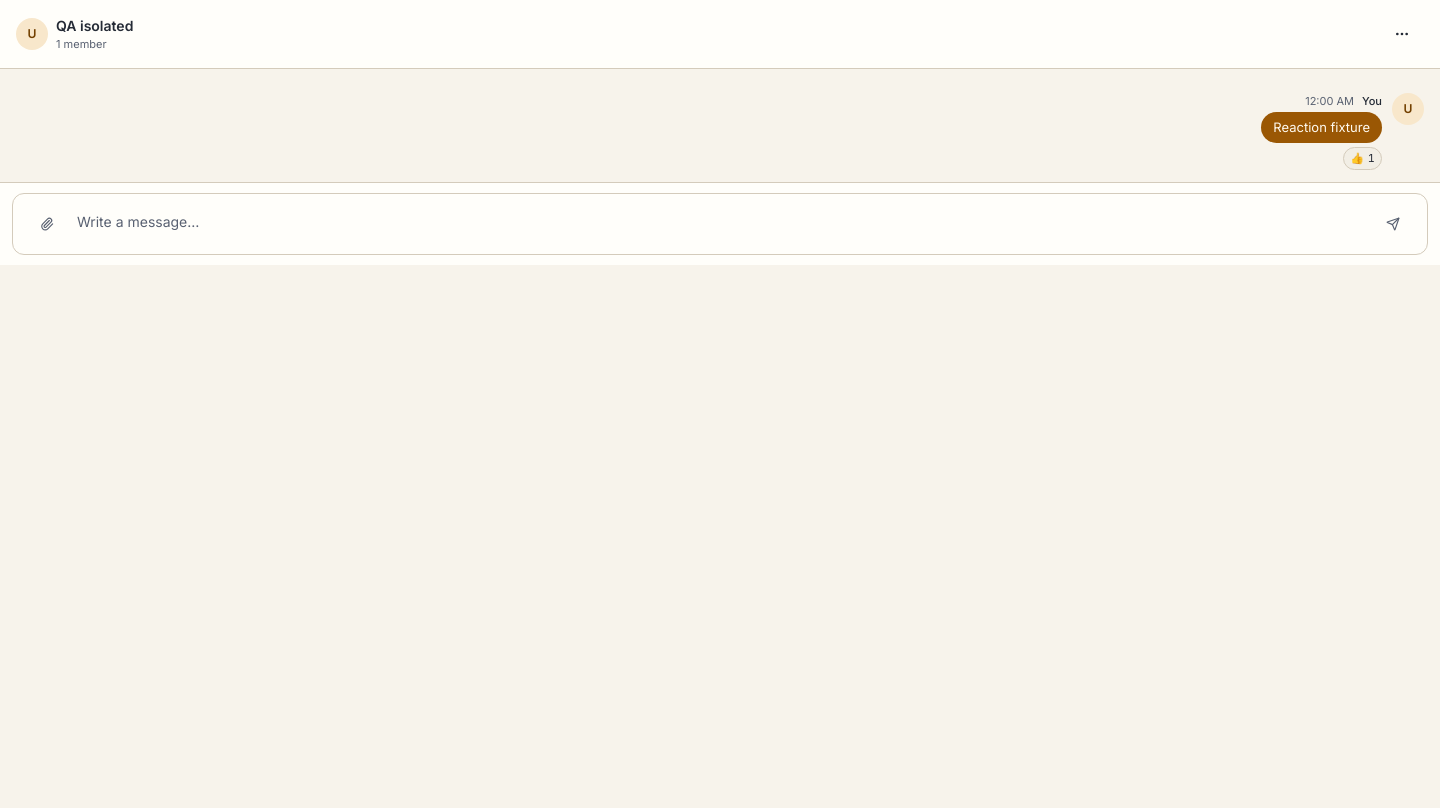
Test: does not skip a disconnected gap or mark it read when an HTTP send arrives later
Expected: the text "Reaction fixture" is shown, [1261, 112, 1382, 143]
In the text box with placeholder "Write a message…": (720, 224) [77, 202, 1363, 246], type "Sent while disconnected"
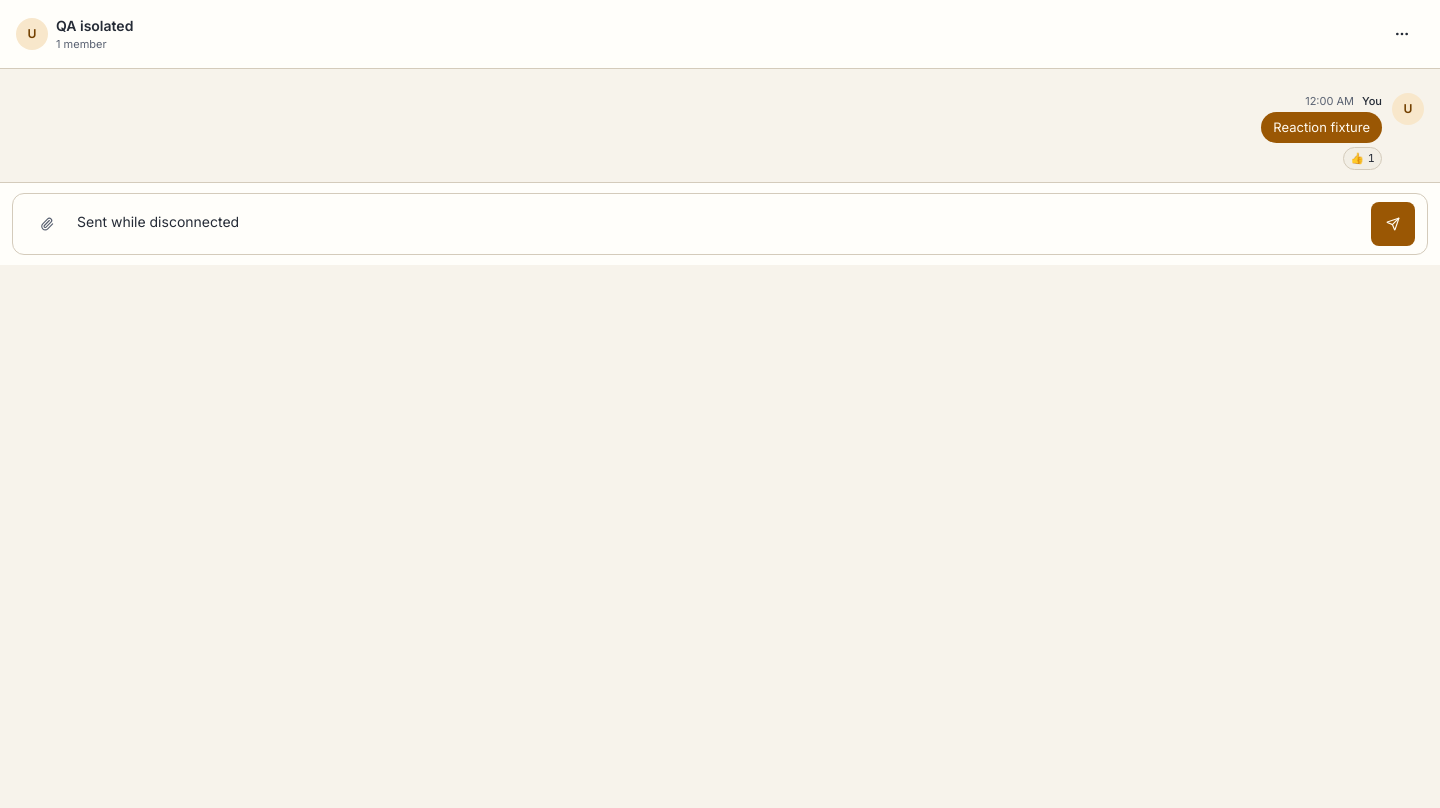
Click the button named "Send message": (1393, 224) [1371, 202, 1415, 246]
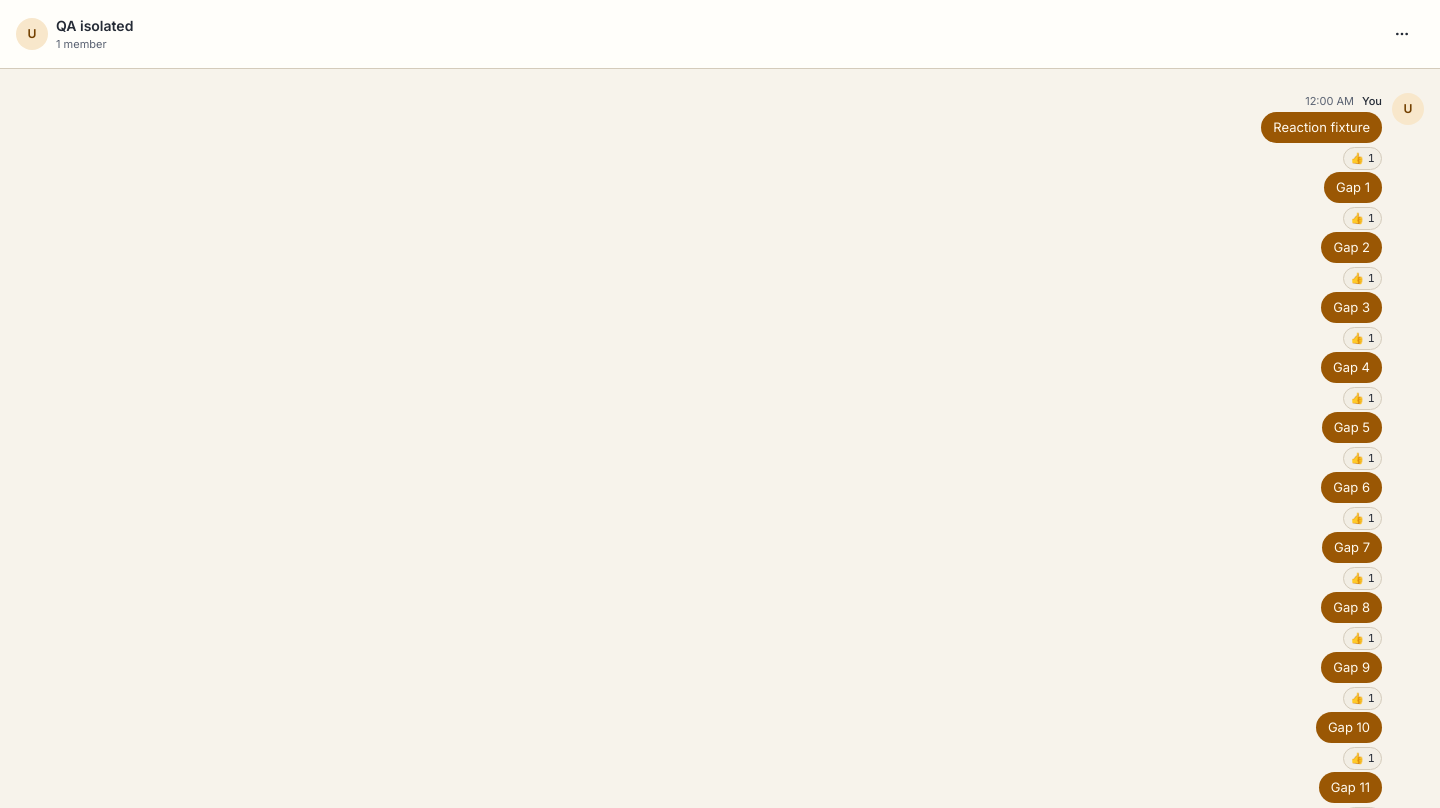
Now the text "Gap 1" is shown, box [1324, 172, 1382, 203]
